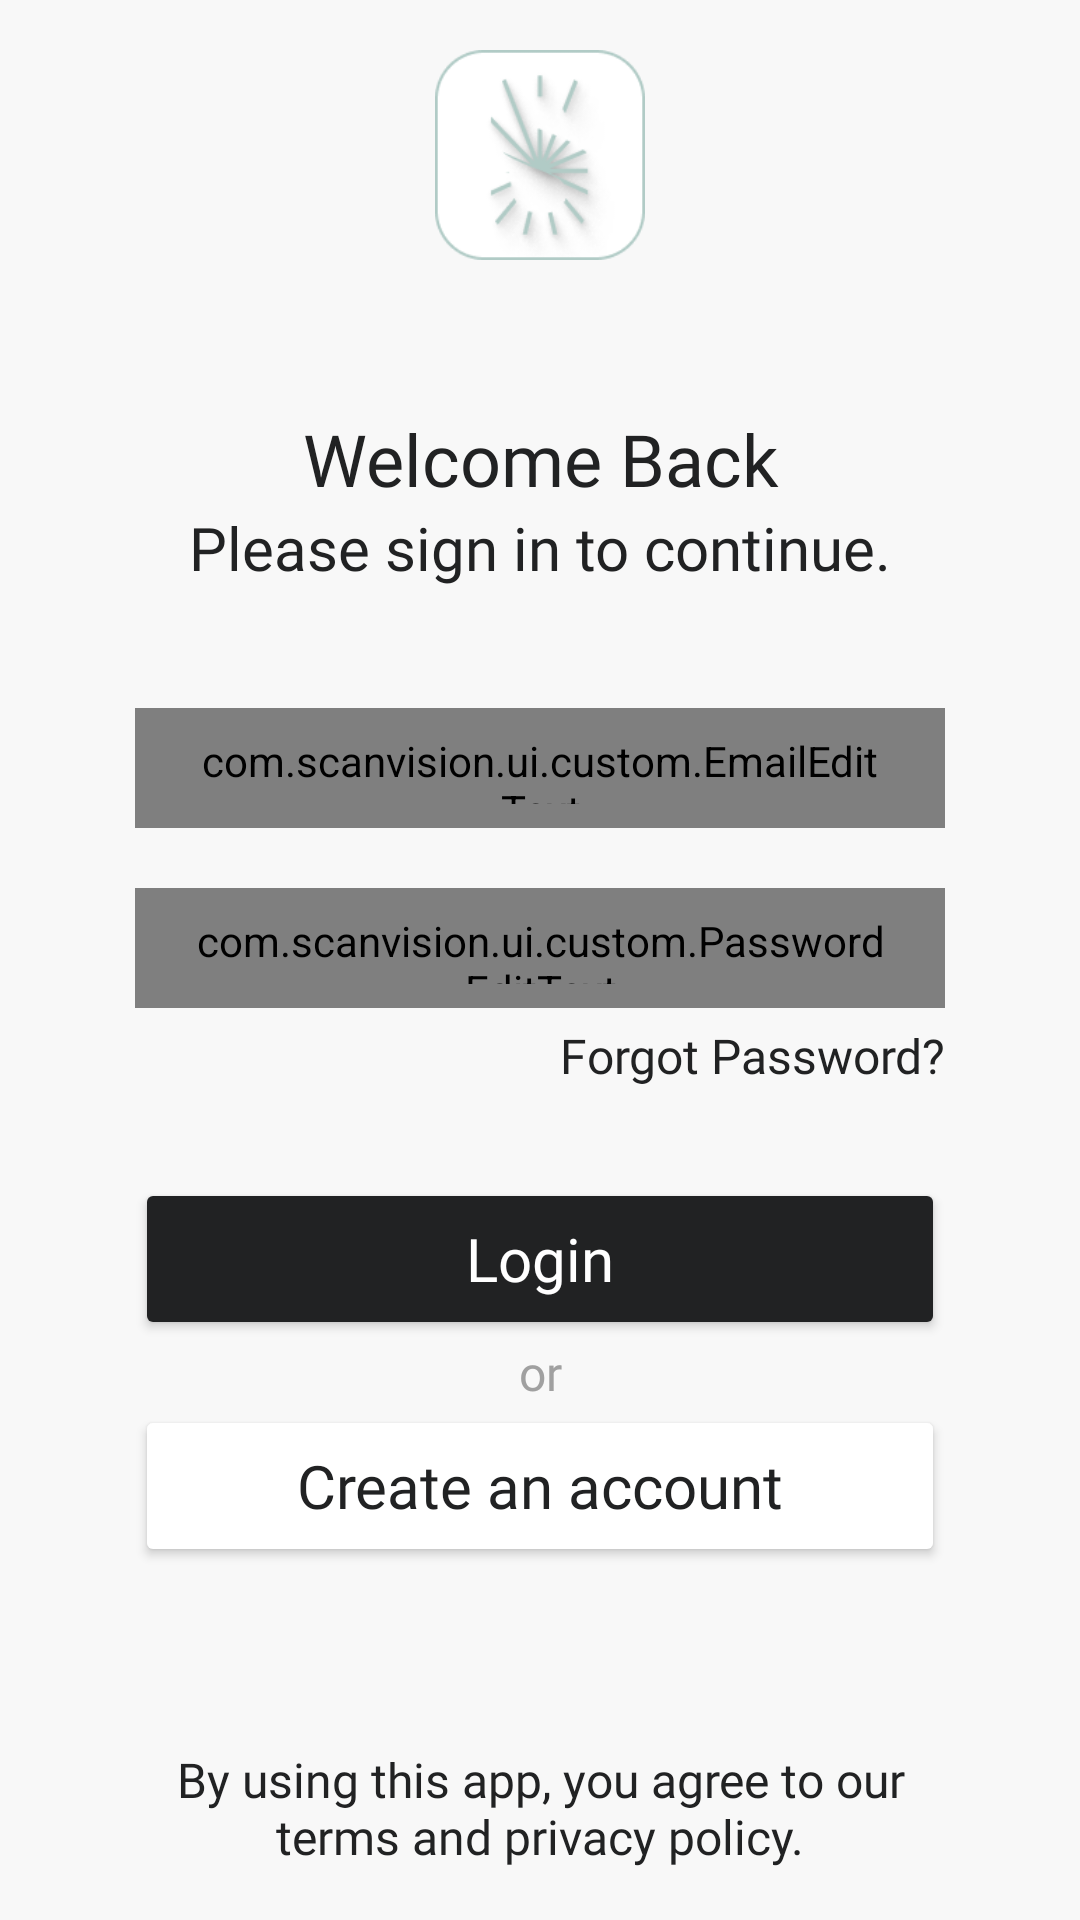

Icons on this 1080x1920 Android screen, each with the point to tap as (x=x, y=y):
app: (x=540, y=155)
